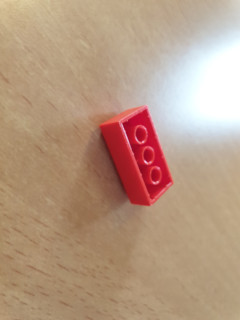2x4 red: (97, 104, 178, 210)
